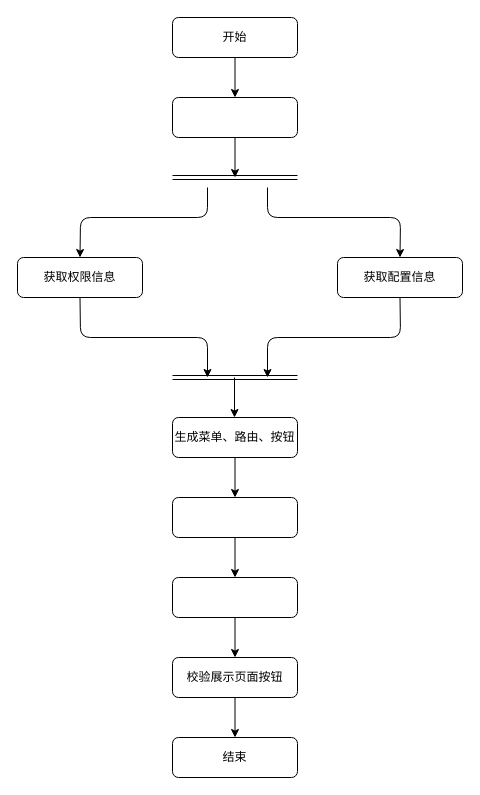
Some shapes in this 480 by 795 pixel diagram are drawn without their labels. Each missing label, with the centre of its shape:
"挂在路由" belongs at point 235,517.
"登录" belongs at point 235,117.
"组件布局，生成菜单" belongs at point 235,597.
